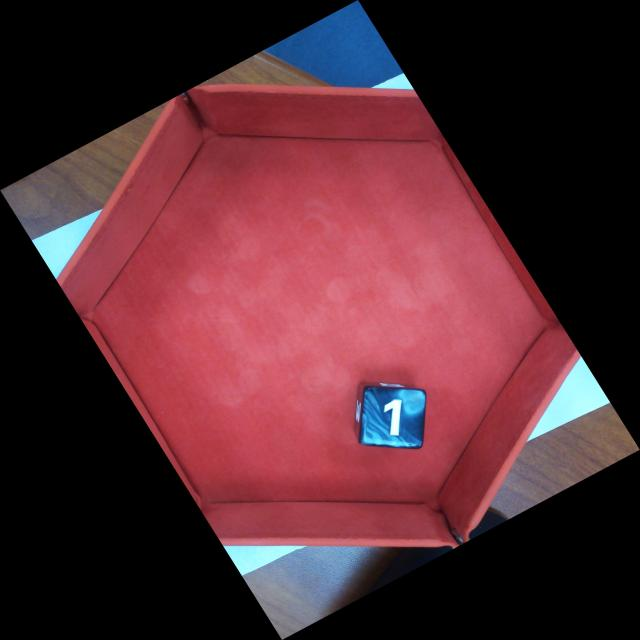dice: (357, 384, 428, 452)
